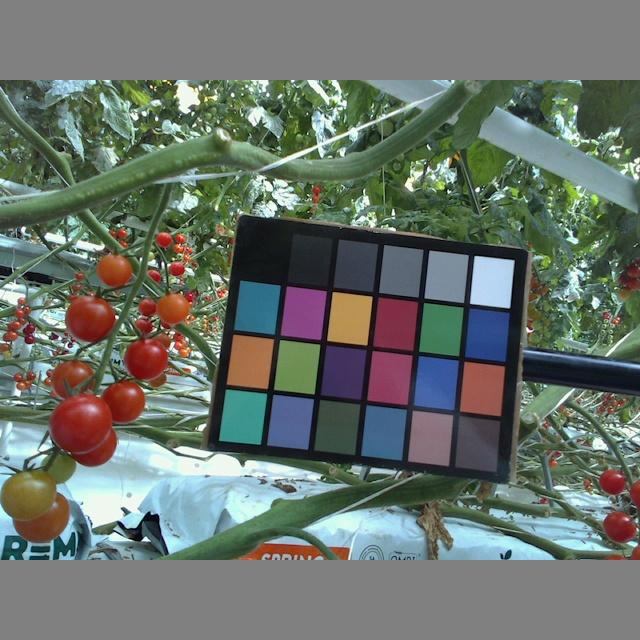green: (38, 451, 79, 487)
pink: (50, 392, 116, 452), (10, 492, 68, 544), (1, 469, 55, 519), (63, 295, 116, 343), (63, 423, 119, 468), (49, 361, 98, 402), (101, 380, 146, 423), (123, 337, 169, 378), (155, 291, 190, 326), (96, 253, 133, 286), (605, 509, 636, 543), (599, 467, 628, 495)
